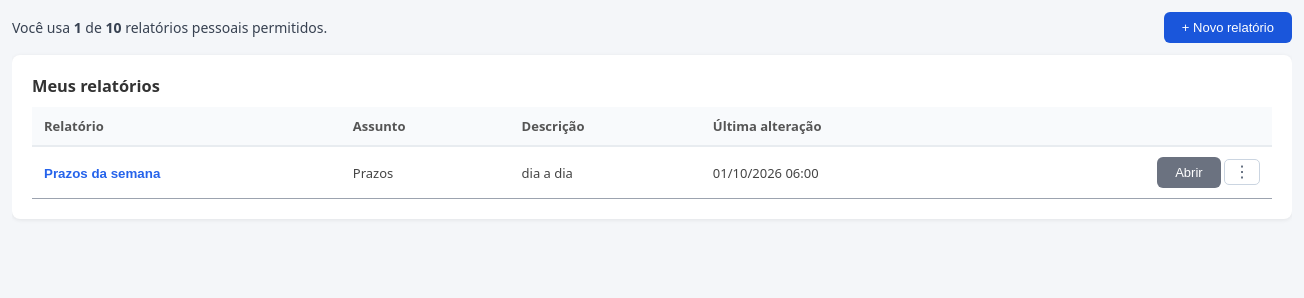
Test: Relatórios (tela nova) › avisa quando o resultado passa do limite da tela e mostra o erro do servidor se a consulta falhar
Step 1. Click the button "Prazos da semana" → point(102, 173), box [44,166,160,180]
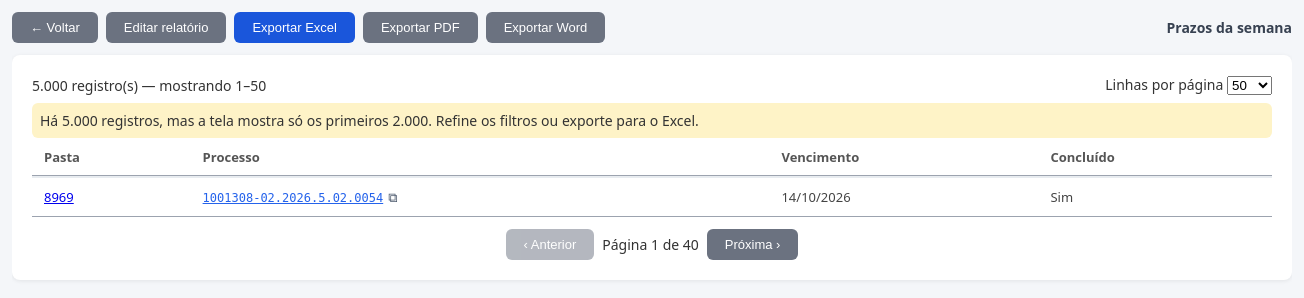
Now the message shows "mostra só os primeiros 2.000", box [32,103,1272,138]
Now the text "Página 1 de 40" is shown, box [602,235,699,254]
Step 2. Click the button "Próxima ›" → point(753, 244), box [707,229,798,260]
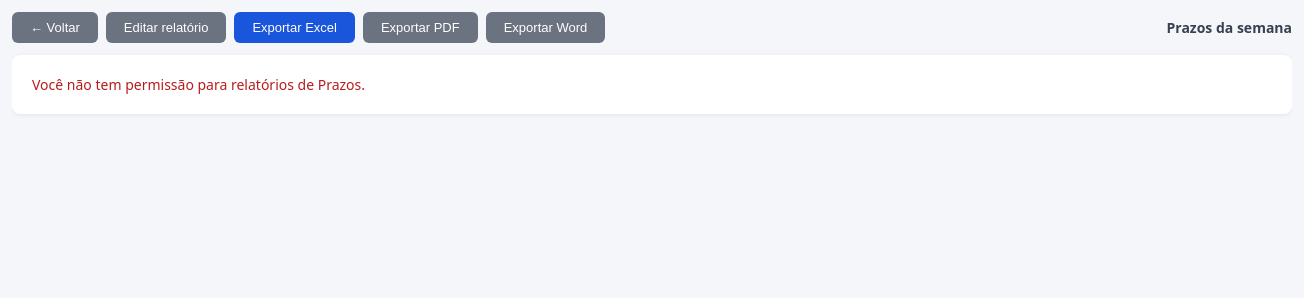
Now the message reads "Você não tem permissão para relatórios de Prazos.", box [32,75,365,94]
